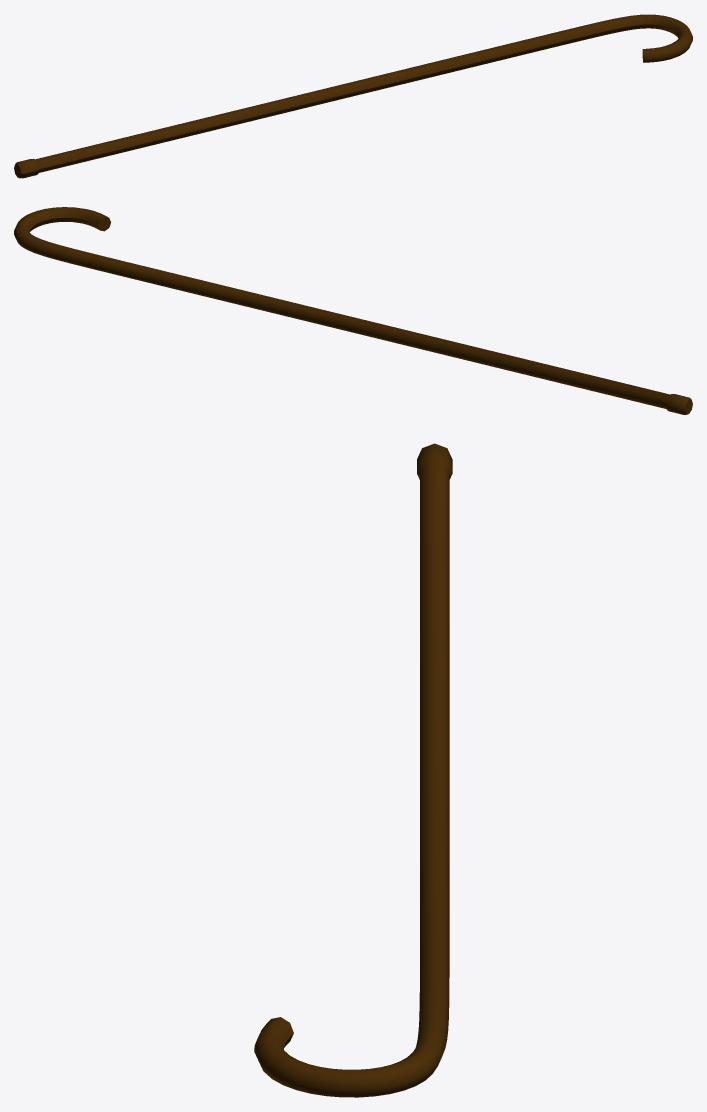
Rendered from 4c04b27b-fb1e-4919-ad71-a20cba7d0798.glb.
3 renders of one model, top to bottom at view 1: azimuth 30°, elevation 25°; view 2: azimuth 150°, elevation 25°; view 3: azimuth 270°, elevation 25°, orthographic. The views are drawn at different scales.
Visible parts, largest first — view 1: NurbsPath_Mesh; view 2: NurbsPath_Mesh; view 3: NurbsPath_Mesh.
Part boxes in pixels (x1=…): NurbsPath_Mesh: x1=14, y1=14, x2=692, y2=178; NurbsPath_Mesh: x1=14, y1=207, x2=692, y2=414; NurbsPath_Mesh: x1=254, y1=443, x2=452, y2=1097.
Bounding box in the file's own units: 1.75 × 0.042 × 0.2324.
